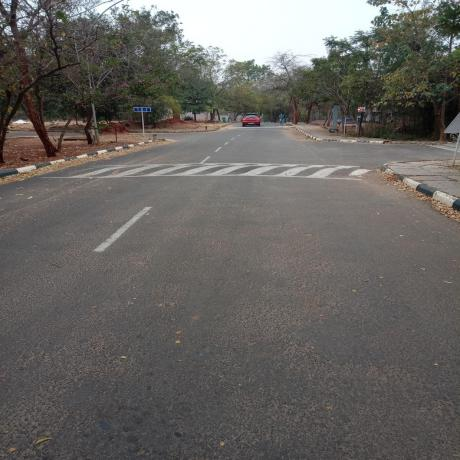Speed Bump: (41, 163, 391, 181)
